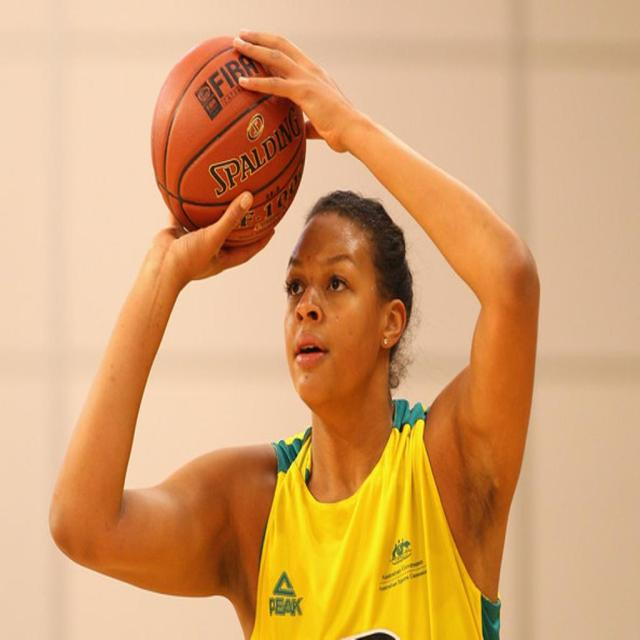Face: (272, 207, 404, 420)
